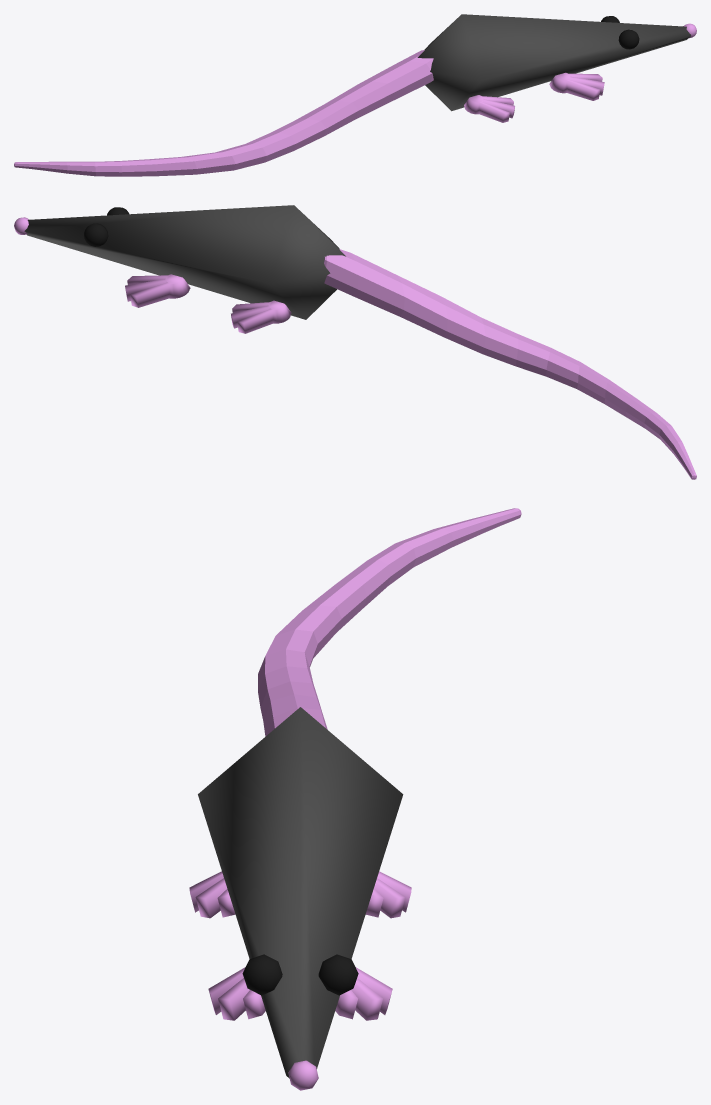
The model's file is Rat.glb.
3 views of the same model, one above another, from view 1: azimuth 30°, elevation 25°; view 2: azimuth 150°, elevation 25°; view 3: azimuth 270°, elevation 25° (orthographic). The views are drawn at different scales.
Parts seen in each view (by area): view 1: RAT; view 2: RAT; view 3: RAT.
Part boxes in pixels (<box>): RAT: <box>14,14,696,176</box>; RAT: <box>14,205,696,479</box>; RAT: <box>189,508,521,1090</box>.
Bounding box in the file's own units: 3.54 × 0.5255 × 0.8088.
